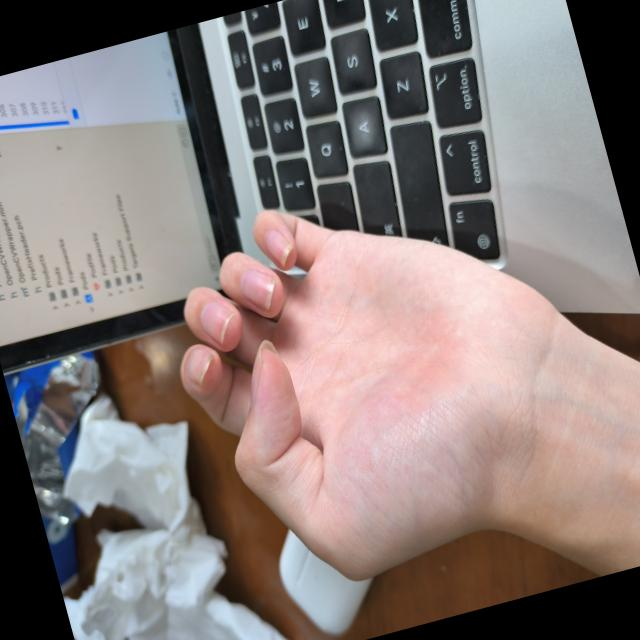Nail: (200, 301, 234, 344), (240, 268, 274, 310), (264, 227, 293, 265), (186, 347, 213, 384), (249, 343, 262, 405)
